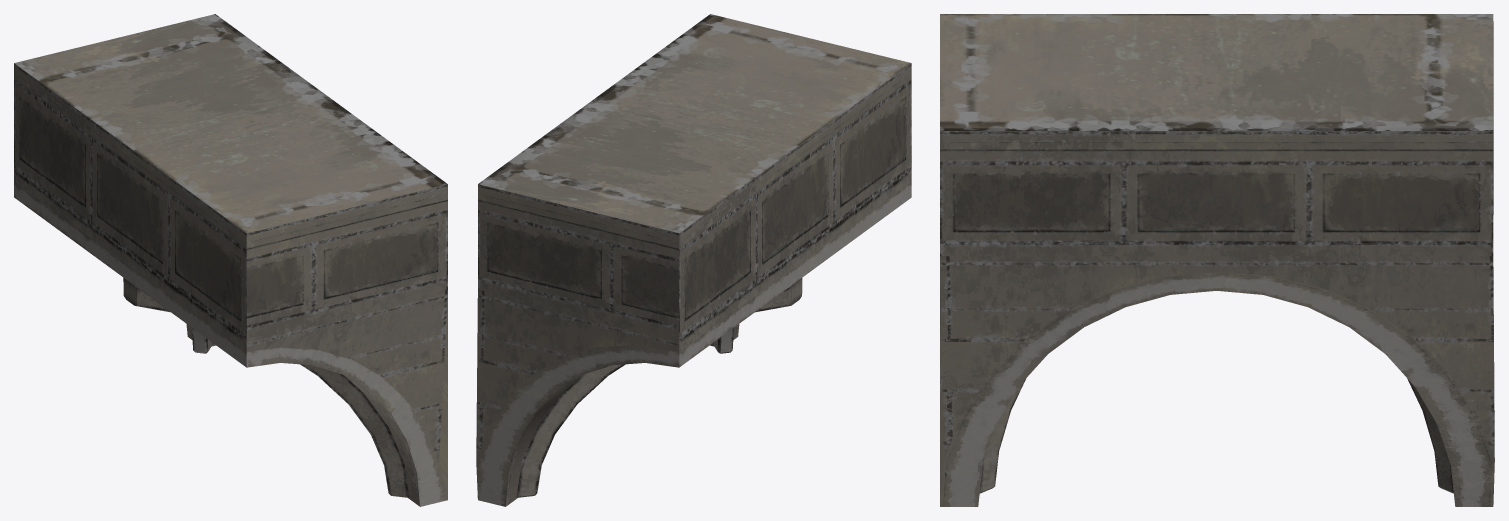
The model's file is SM_Church_Ceiling_HalfVault.fbx.
The picture shows the model from 3 angles, left to right: view 1: azimuth 30°, elevation 25°; view 2: azimuth 150°, elevation 25°; view 3: azimuth 270°, elevation 25°; orthographic projection. The views are drawn at different scales.
Parts seen in each view (by area): view 1: SM_VaultedCeiling_Standard_Half; view 2: SM_VaultedCeiling_Standard_Half; view 3: SM_VaultedCeiling_Standard_Half.
Part boxes in pixels (<box>): SM_VaultedCeiling_Standard_Half: <box>14,14,447,506</box>; SM_VaultedCeiling_Standard_Half: <box>476,14,911,506</box>; SM_VaultedCeiling_Standard_Half: <box>940,14,1494,506</box>.
Bounding box in the file's own units: 2.01 × 3 × 4.01.
